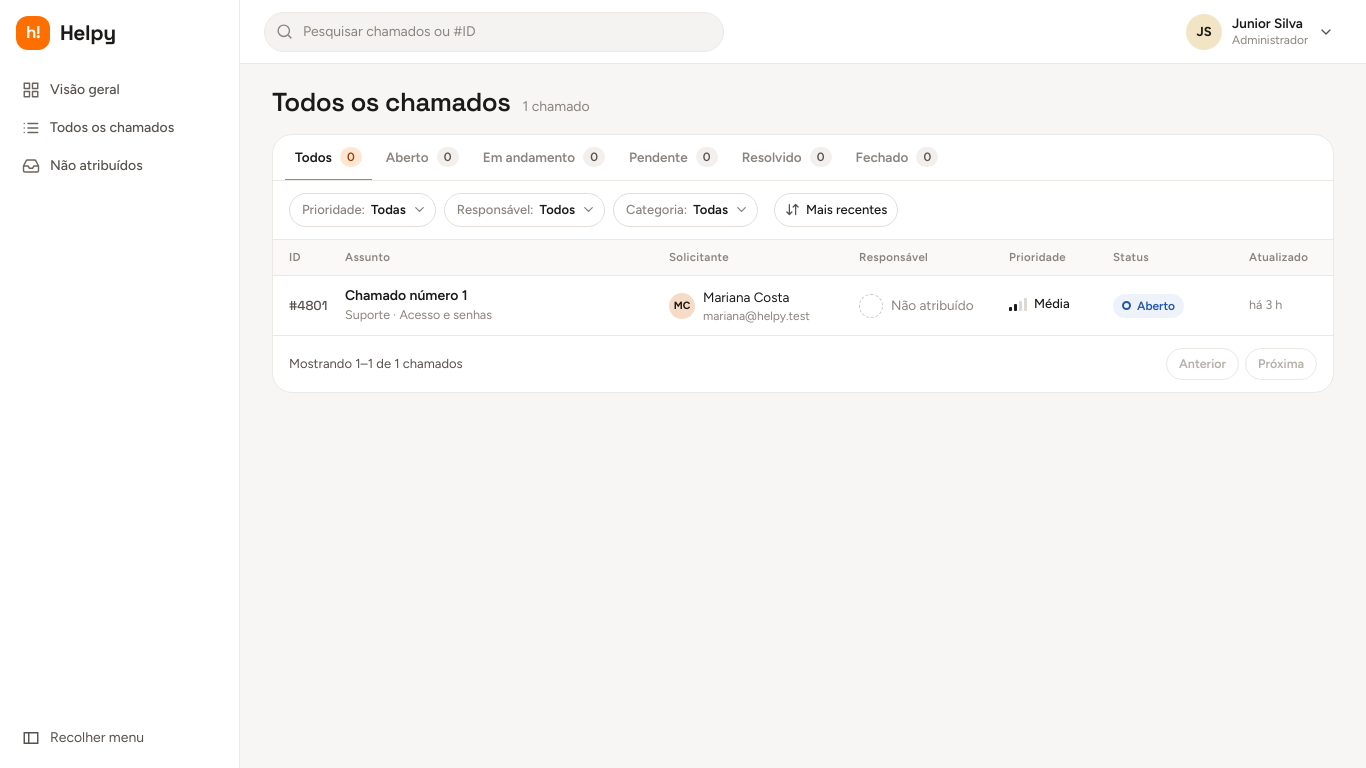
Test: ticket filters › a priority writes to the URL, to the request, and resets the page
Click the button "Prioridade: Todas": {"x": 362, "y": 210} [289, 193, 436, 227]
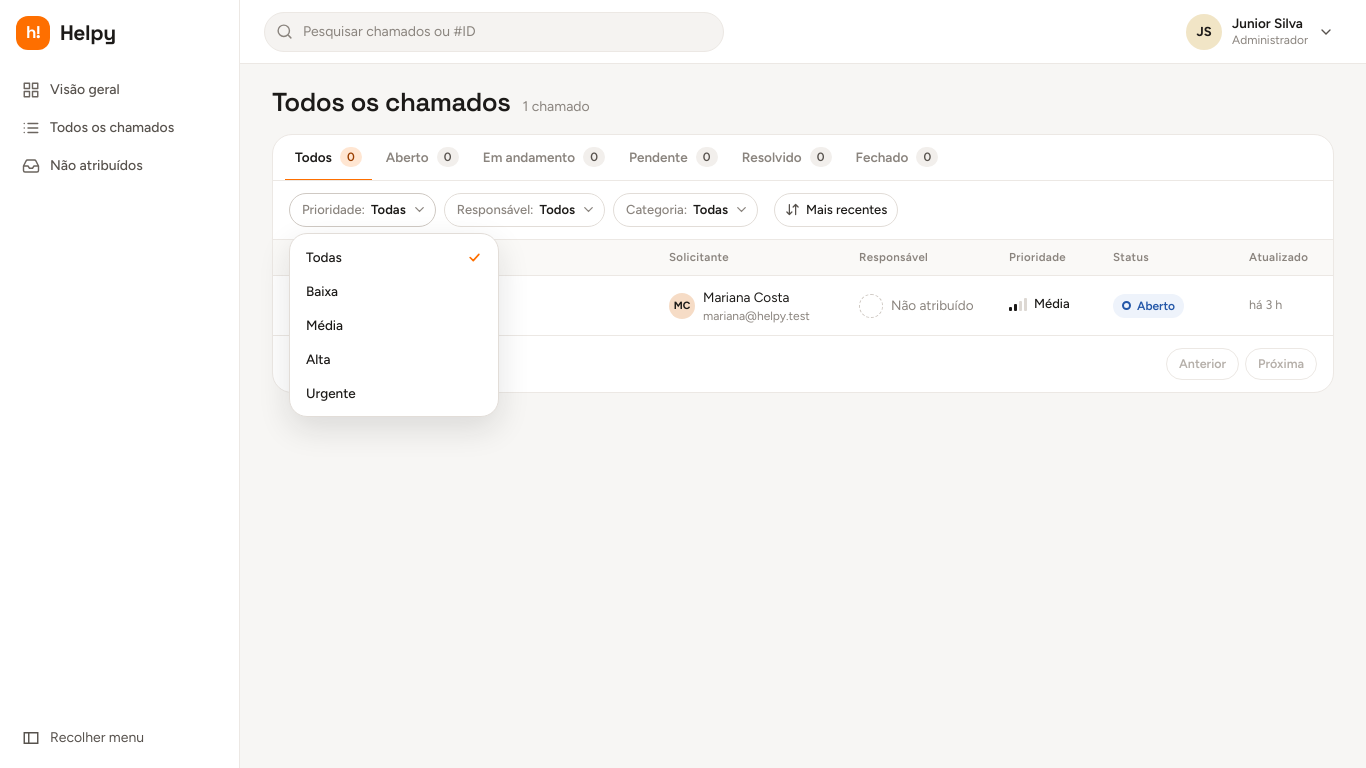
Click the menu item "Alta": {"x": 318, "y": 359} [306, 351, 330, 367]
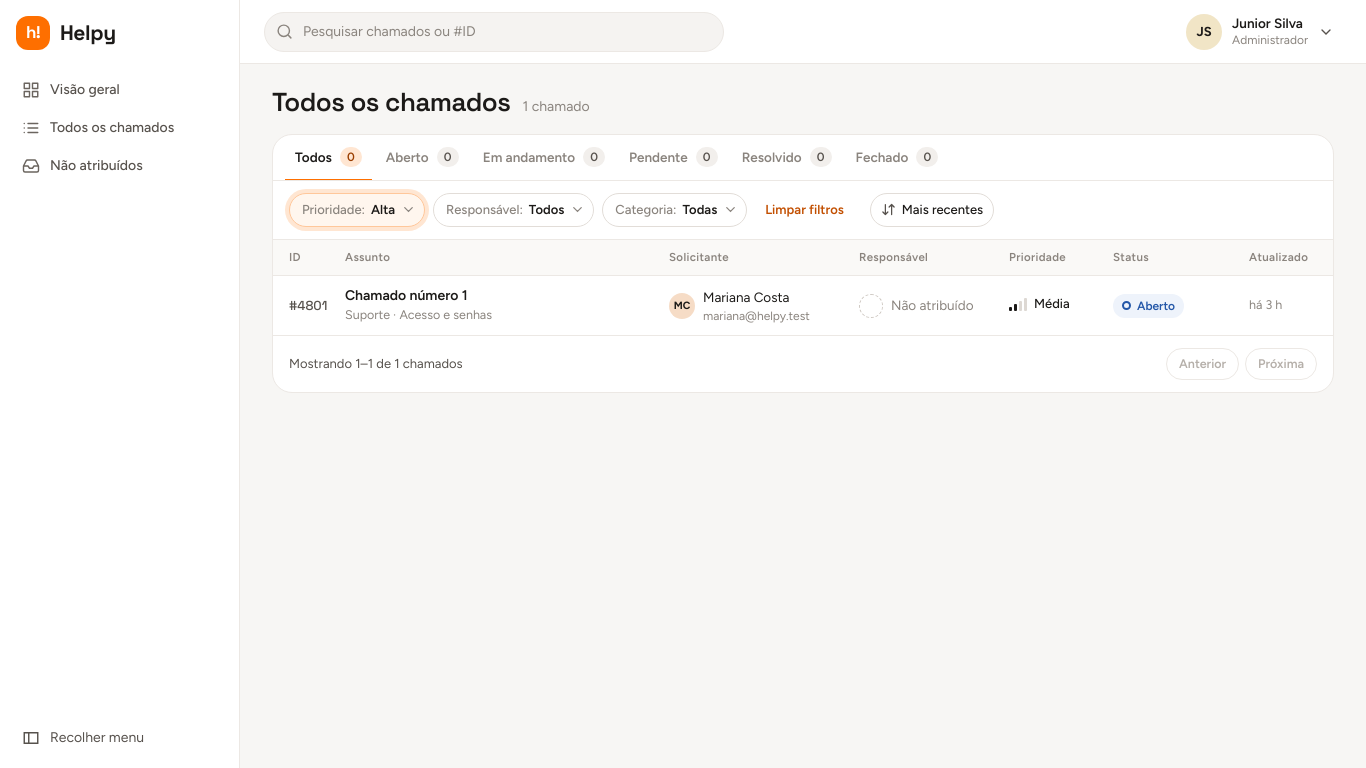
expect the button "Prioridade: Alta" is shown: met, box [289, 193, 425, 227]
